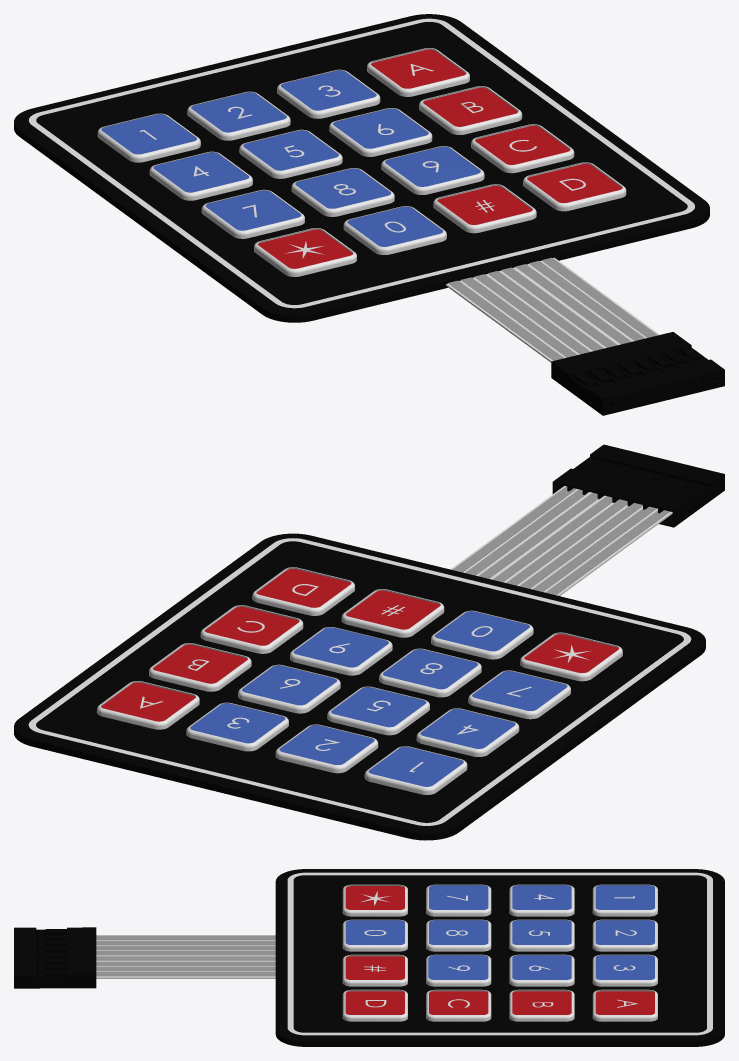
The model's file is membrane_keypad.glb.
The picture shows the model from 3 angles, top to bottom: view 1: azimuth 30°, elevation 25°; view 2: azimuth 150°, elevation 25°; view 3: azimuth 270°, elevation 25°; orthographic projection. The views are drawn at different scales.
Parts seen in each view (by area): view 1: preto_teclado-material, Azul_Servo_009-material, LED_008-material, Vermelgo_Fio_019-material, fita-material, PlasticoPreto_032-material, _BRANCO_007-material, cabo_fita-material; view 2: preto_teclado-material, Azul_Servo_009-material, LED_008-material, Vermelgo_Fio_019-material, fita-material, PlasticoPreto_032-material, _BRANCO_007-material, cabo_fita-material; view 3: preto_teclado-material, Azul_Servo_009-material, LED_008-material, Vermelgo_Fio_019-material, fita-material, _BRANCO_007-material, PlasticoPreto_032-material, cabo_fita-material.
Boxes of the visible parts, x1=… form: preto_teclado-material: x1=14, y1=14, x2=709, y2=322; Azul_Servo_009-material: x1=101, y1=70, x2=480, y2=246; LED_008-material: x1=97, y1=48, x2=626, y2=276; Vermelgo_Fio_019-material: x1=258, y1=49, x2=622, y2=268; fita-material: x1=448, y1=257, x2=657, y2=360; PlasticoPreto_032-material: x1=551, y1=332, x2=724, y2=415; _BRANCO_007-material: x1=28, y1=18, x2=694, y2=308; cabo_fita-material: x1=446, y1=257, x2=659, y2=362; preto_teclado-material: x1=14, y1=533, x2=705, y2=840; Azul_Servo_009-material: x1=190, y1=611, x2=567, y2=786; LED_008-material: x1=97, y1=567, x2=622, y2=794; Vermelgo_Fio_019-material: x1=101, y1=569, x2=618, y2=721; fita-material: x1=452, y1=486, x2=669, y2=595; PlasticoPreto_032-material: x1=552, y1=444, x2=724, y2=527; _BRANCO_007-material: x1=28, y1=538, x2=691, y2=825; cabo_fita-material: x1=450, y1=486, x2=672, y2=595; preto_teclado-material: x1=275, y1=869, x2=724, y2=1046; Azul_Servo_009-material: x1=345, y1=885, x2=654, y2=979; LED_008-material: x1=342, y1=884, x2=657, y2=1021; Vermelgo_Fio_019-material: x1=345, y1=886, x2=654, y2=1014; fita-material: x1=96, y1=935, x2=275, y2=976; _BRANCO_007-material: x1=287, y1=872, x2=712, y2=1035; PlasticoPreto_032-material: x1=14, y1=927, x2=96, y2=988; cabo_fita-material: x1=96, y1=940, x2=275, y2=978.
Bounding box in the file's own units: 0.0739 × 0.0031 × 0.1286.
